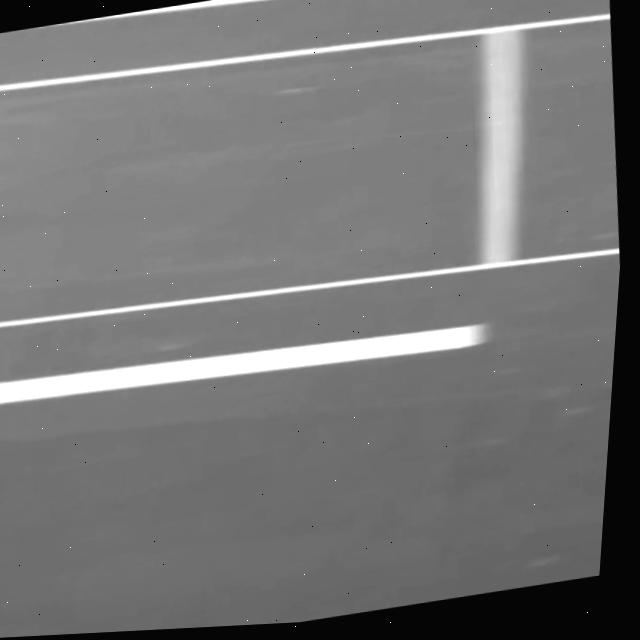center: (0, 324, 487, 404)
right: (12, 0, 262, 30)
